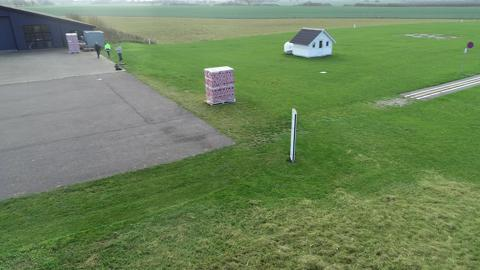RockwoolPallet: (66, 32, 81, 54)
